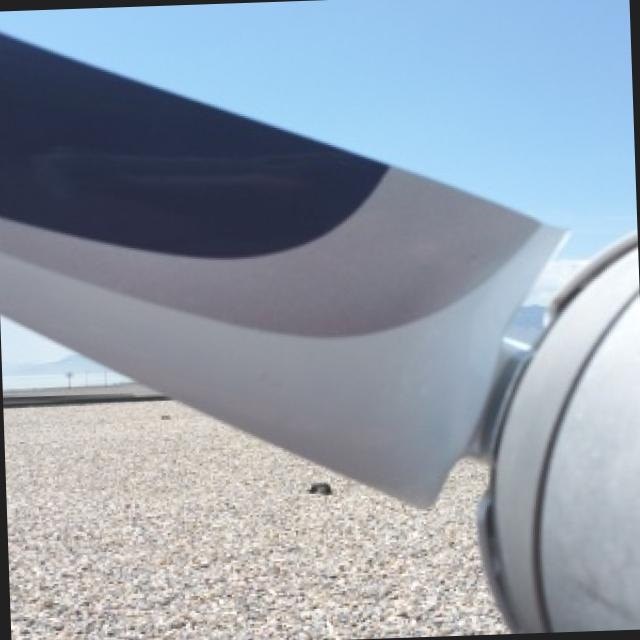healthy: (3, 402, 502, 640)
